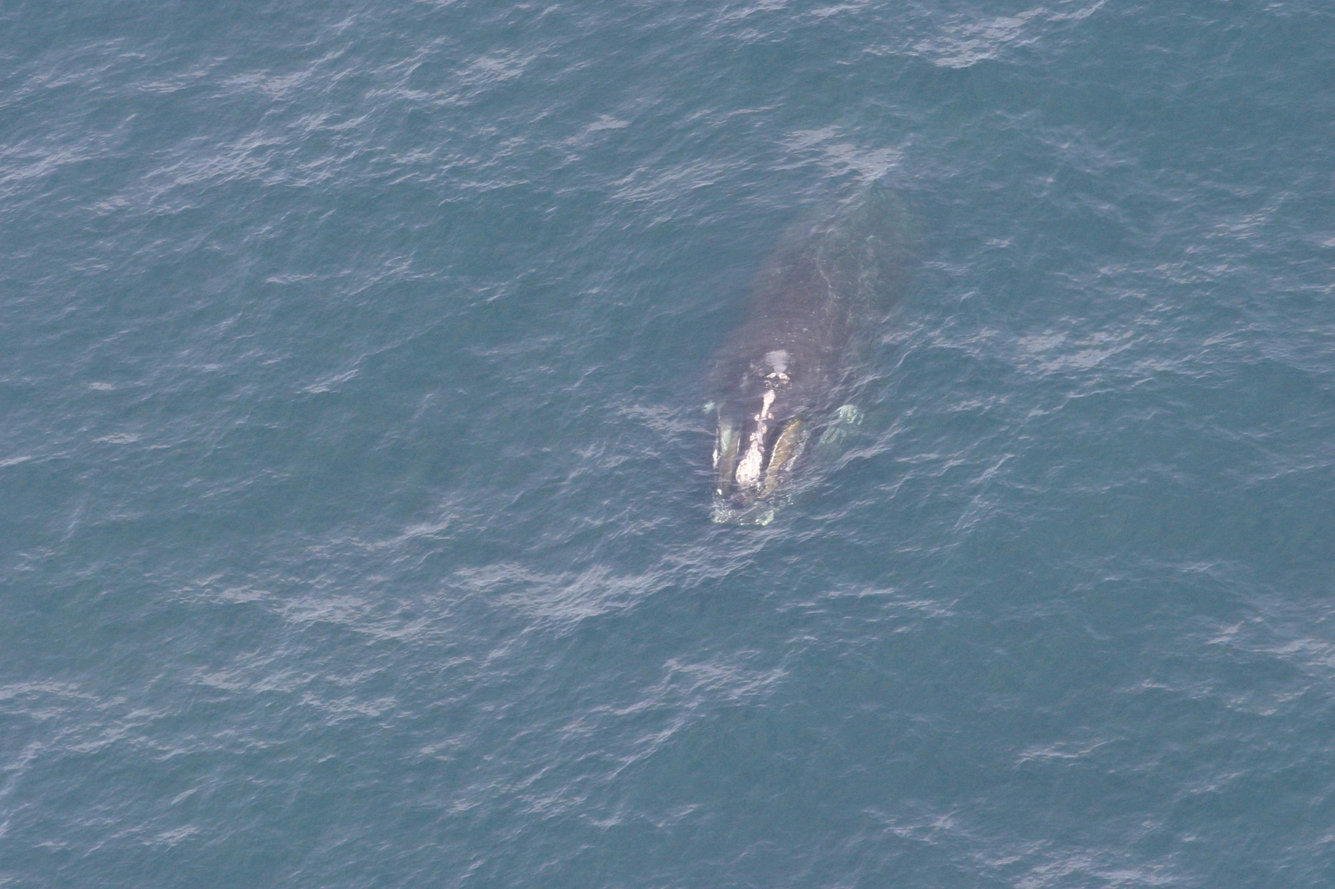whale: (687, 85, 938, 539)
